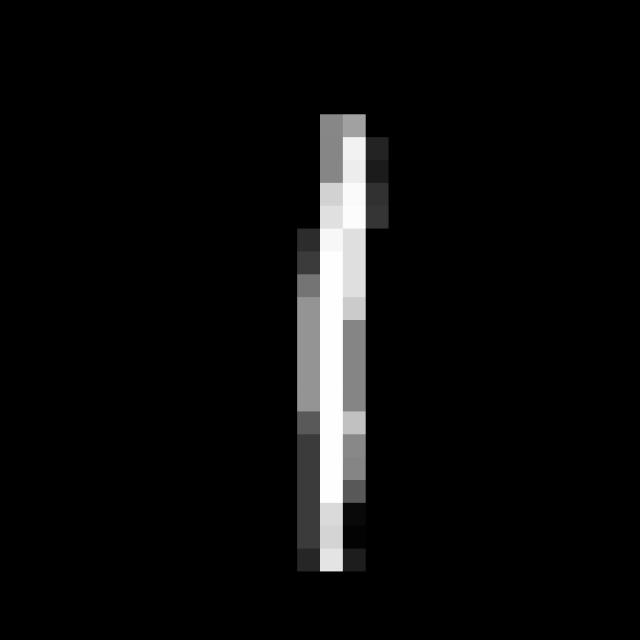one -1-: (267, 98, 400, 596)
